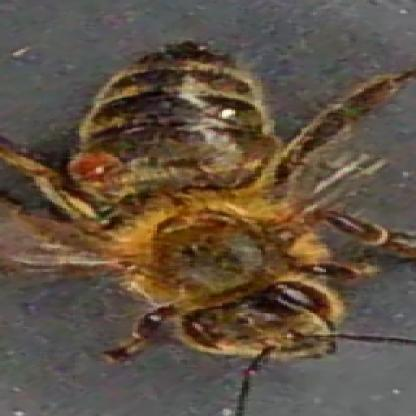bee: (57, 46, 354, 367)
vaoora: (69, 155, 121, 179)
